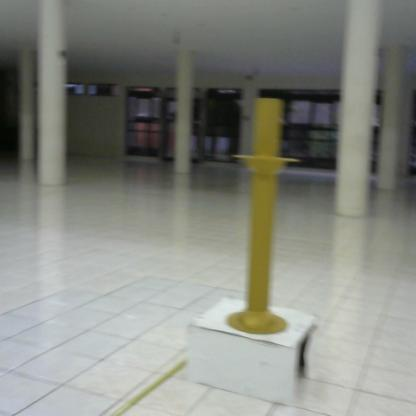pole: (223, 92, 304, 336)
